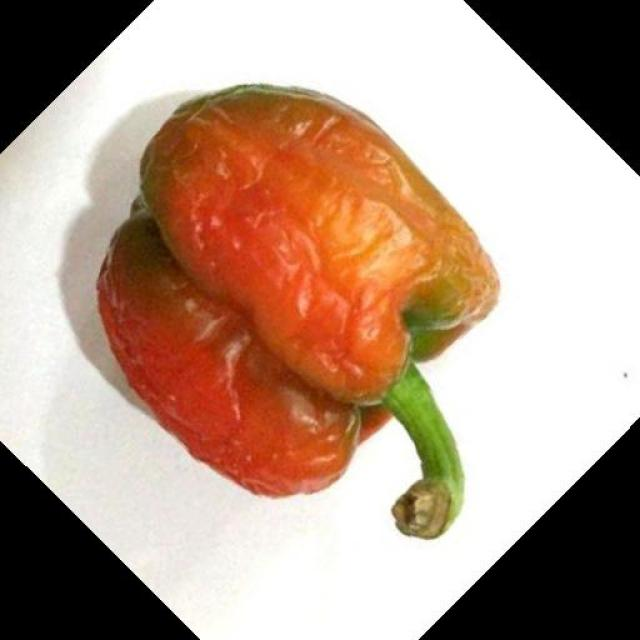Stale_Capsicum: (90, 91, 510, 506)
